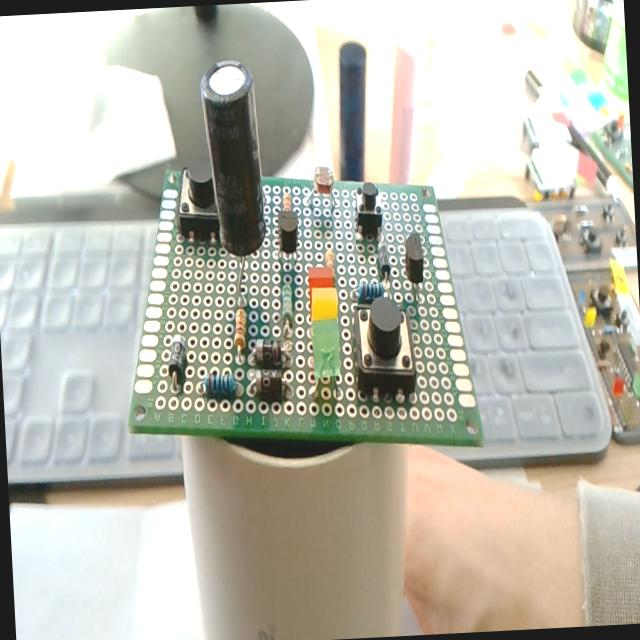Electrolytic capacitor: (200, 58, 268, 258)
cds: (306, 164, 340, 215)
diode: (166, 334, 189, 389), (250, 367, 285, 402), (252, 338, 284, 369), (378, 242, 392, 281)
led: (307, 312, 348, 396), (307, 265, 336, 308), (311, 286, 338, 322)
resistor: (203, 370, 240, 400), (356, 279, 386, 305), (233, 308, 249, 356), (280, 284, 294, 330), (325, 248, 336, 283), (282, 188, 292, 212)
switch: (350, 293, 418, 403), (176, 163, 220, 244), (352, 181, 384, 240)
transistor: (403, 232, 425, 297), (278, 211, 300, 254)
